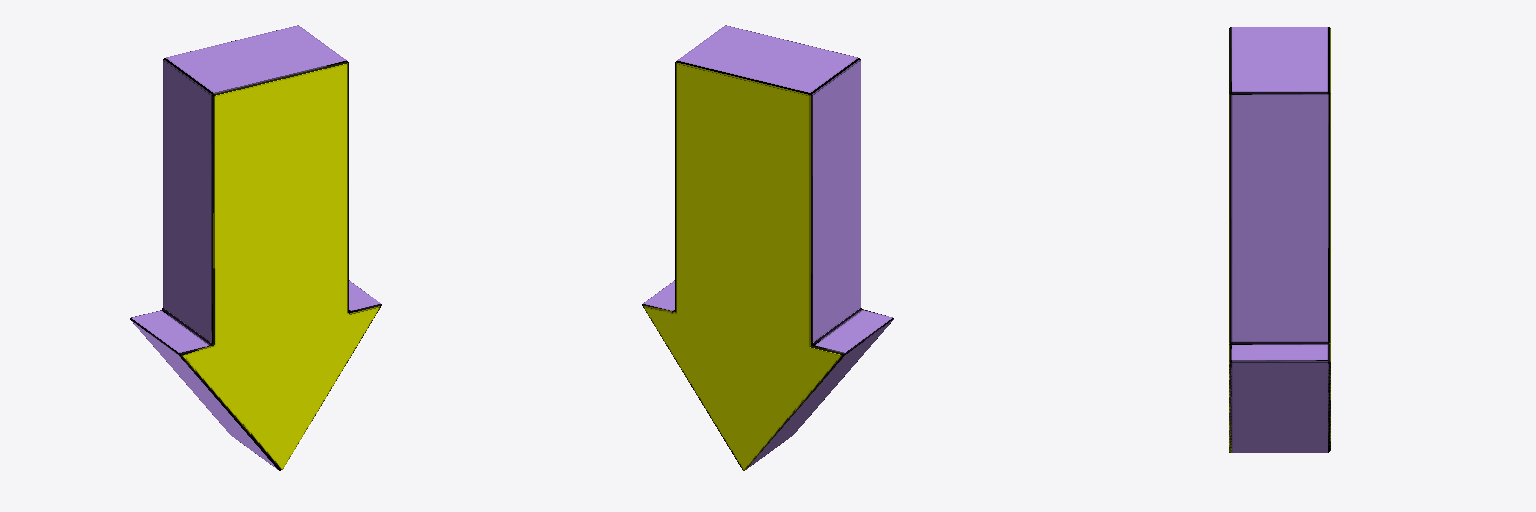
3 renders of one model, left to right at view 1: azimuth 30°, elevation 25°; view 2: azimuth 150°, elevation 25°; view 3: azimuth 270°, elevation 25°, orthographic.
Parts seen in each view (by area): view 1: ArrowGeo_target; view 2: ArrowGeo_target; view 3: ArrowGeo_target.
Boxes of the visible parts, <box> form: ArrowGeo_target: <box>130,25,381,470</box>; ArrowGeo_target: <box>642,25,893,470</box>; ArrowGeo_target: <box>1229,27,1330,452</box>.
Size of the model in its own units: 5.93 by 10.96 by 2.56.
1 materials, 1 textured.